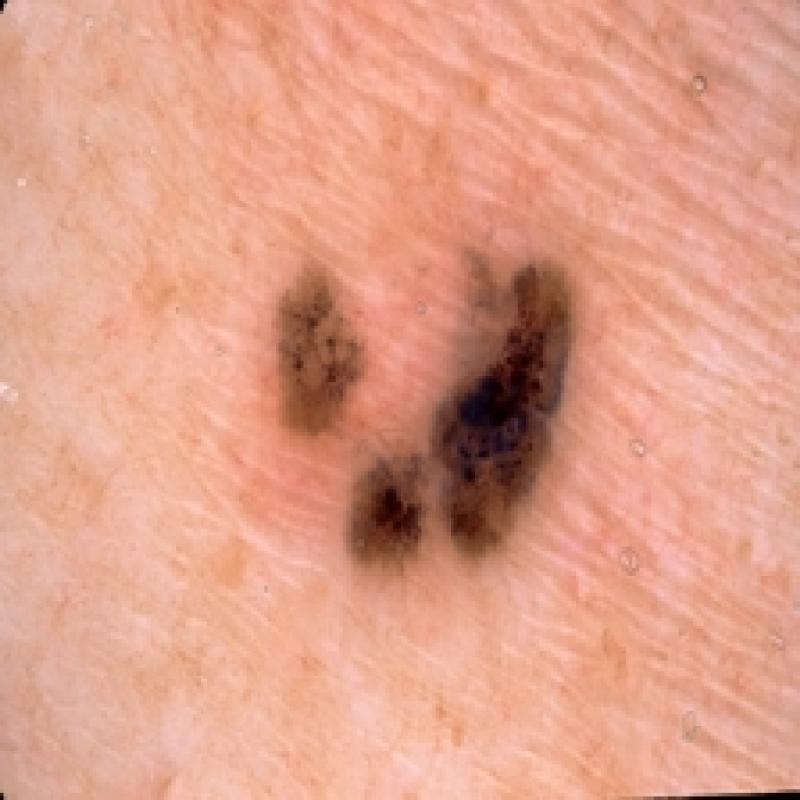malignant: (236, 208, 613, 623)
